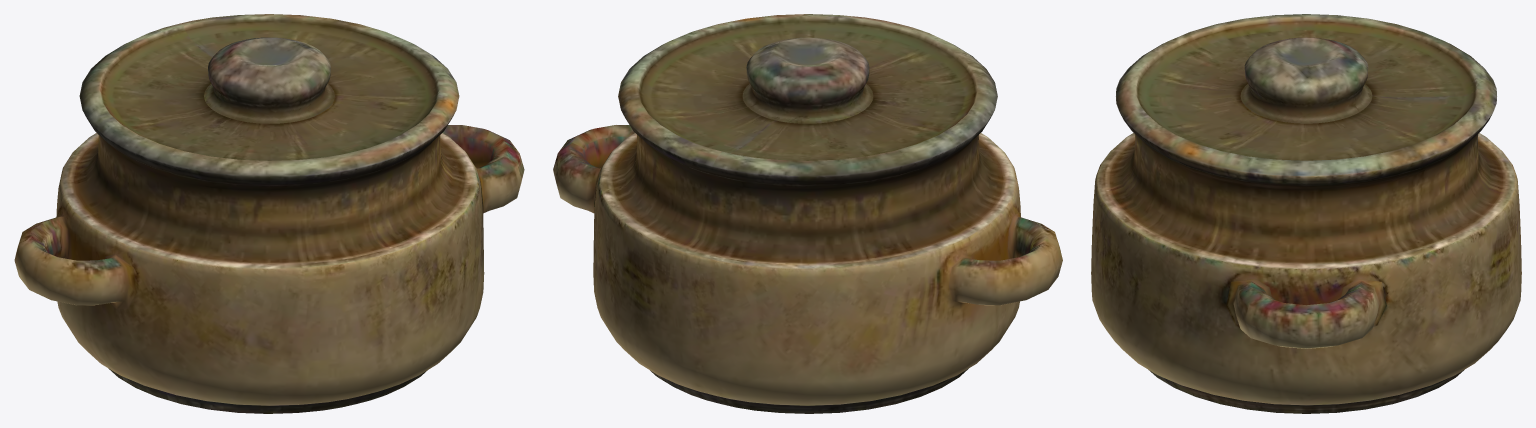
The model's file is ceramic_pot.glb.
The picture shows the model from 3 angles, left to right: view 1: azimuth 30°, elevation 25°; view 2: azimuth 150°, elevation 25°; view 3: azimuth 270°, elevation 25°; orthographic projection.
Visible parts, largest first — view 1: ceramic_pot; view 2: ceramic_pot; view 3: ceramic_pot.
Part boxes in pixels (<box>): ceramic_pot: <box>14,14,524,413</box>; ceramic_pot: <box>553,14,1062,413</box>; ceramic_pot: <box>1091,14,1521,413</box>.
Bounding box in the file's own units: 0.6563 × 0.3717 × 0.5018.
1 material, 1 textured.
